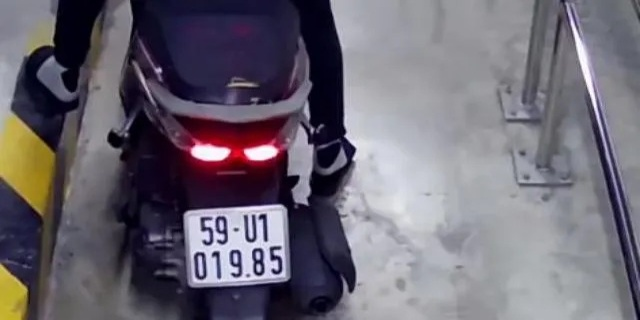bien_so: (184, 210, 291, 282)
